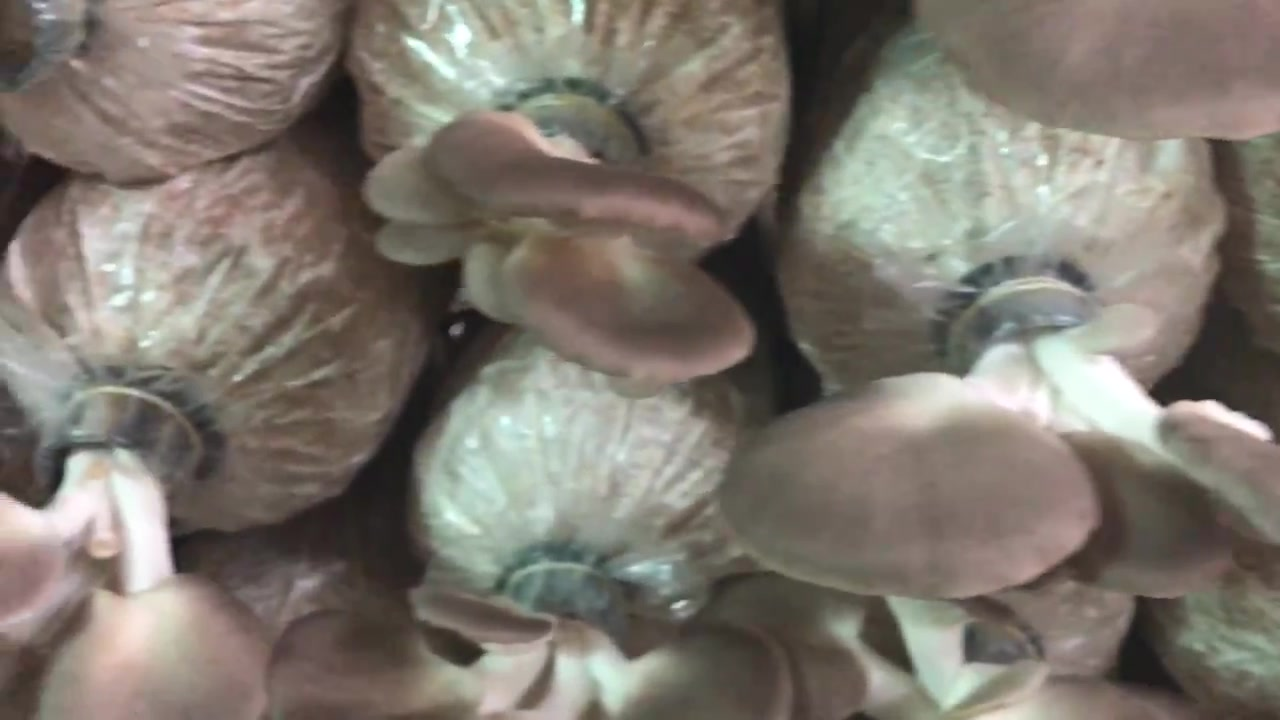nam: (725, 267, 1280, 605), (360, 91, 761, 375), (270, 546, 791, 720), (5, 388, 273, 720), (917, 2, 1280, 140)
